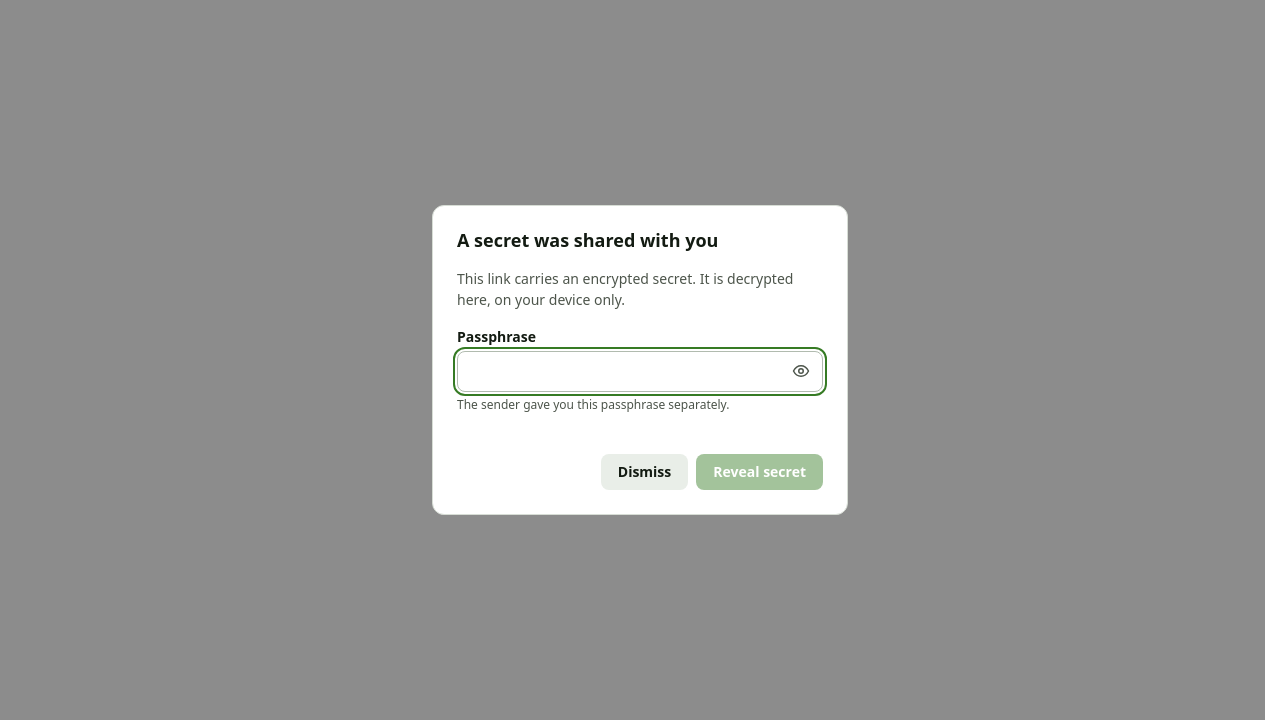
Scenario: ShareOpenDialog › requires the passphrase, rejects a wrong one, accepts the right one
The width and height of the screenshot is (1280, 720).
Step 1. Type "wrong" into the password field labelled "Passphrase" → (640,371), box [457, 351, 823, 392]
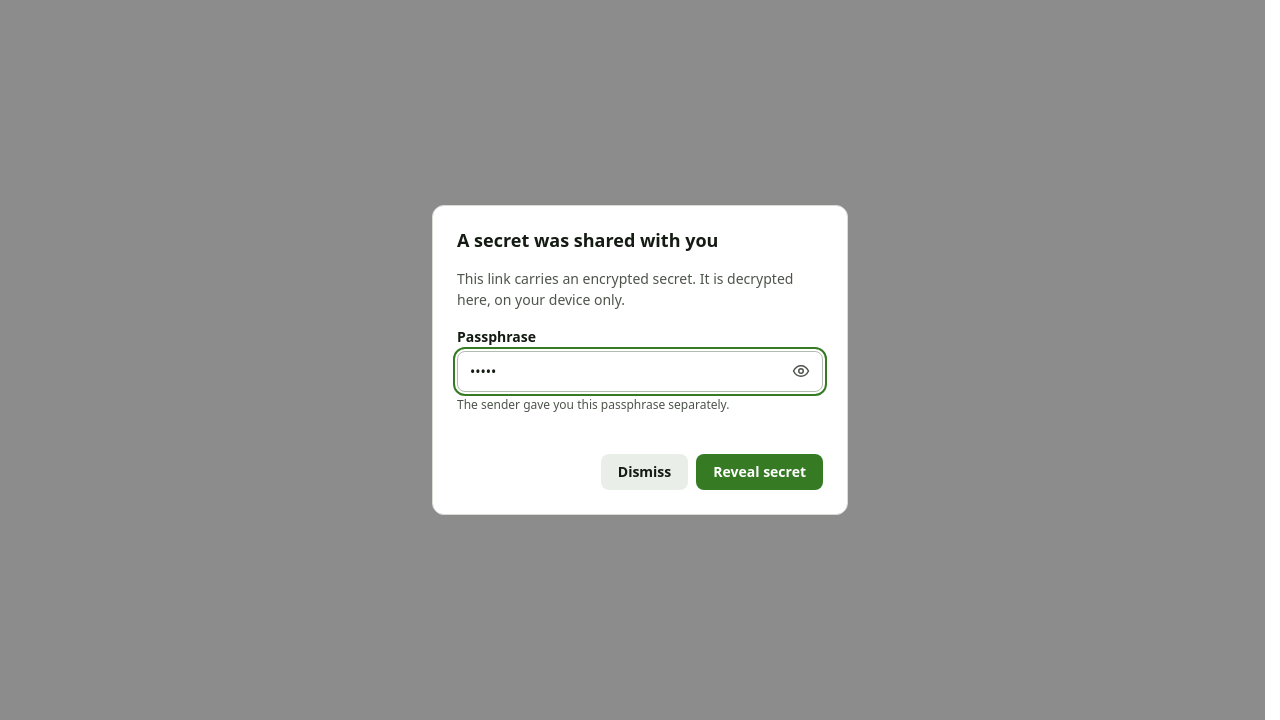
Step 2. Click the button "Reveal secret" → (760,472), box [696, 454, 823, 490]
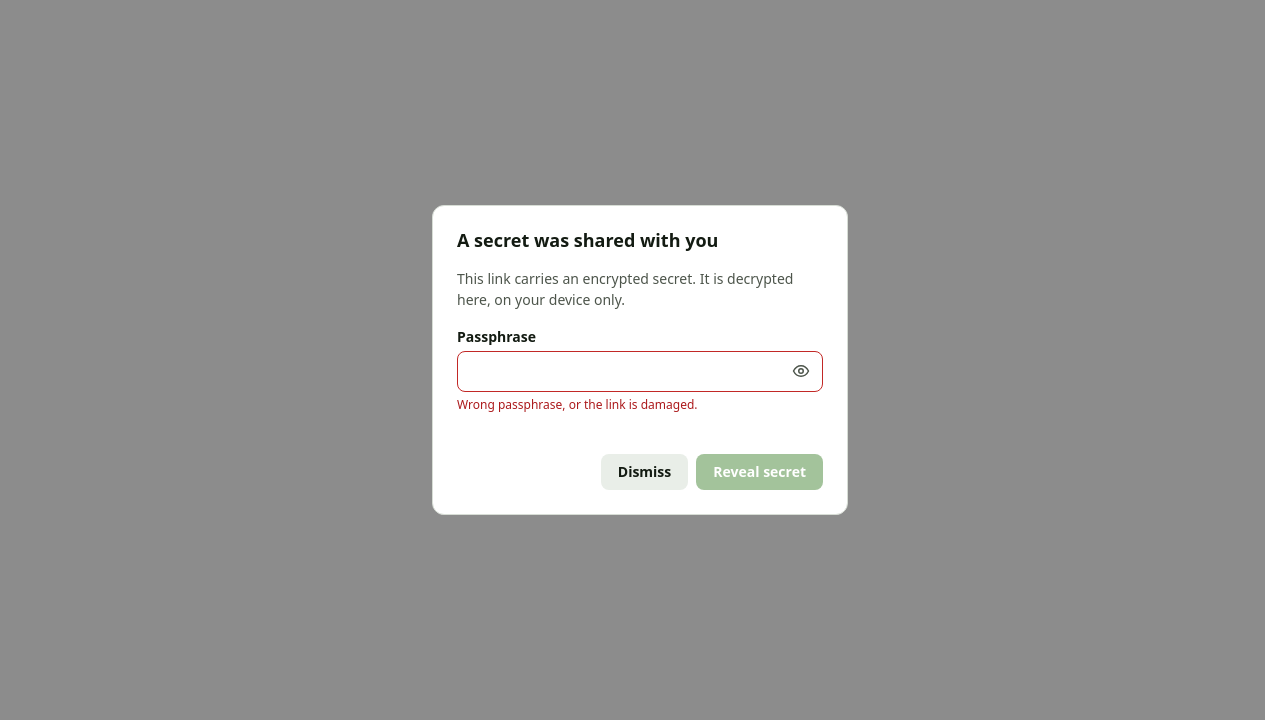
Check: the text "Wrong passphrase, or the link is damaged." is shown, box [457, 396, 698, 413]
Step 3. Type "sesame" into the password field labelled "Passphrase" → (640,371), box [457, 351, 823, 392]
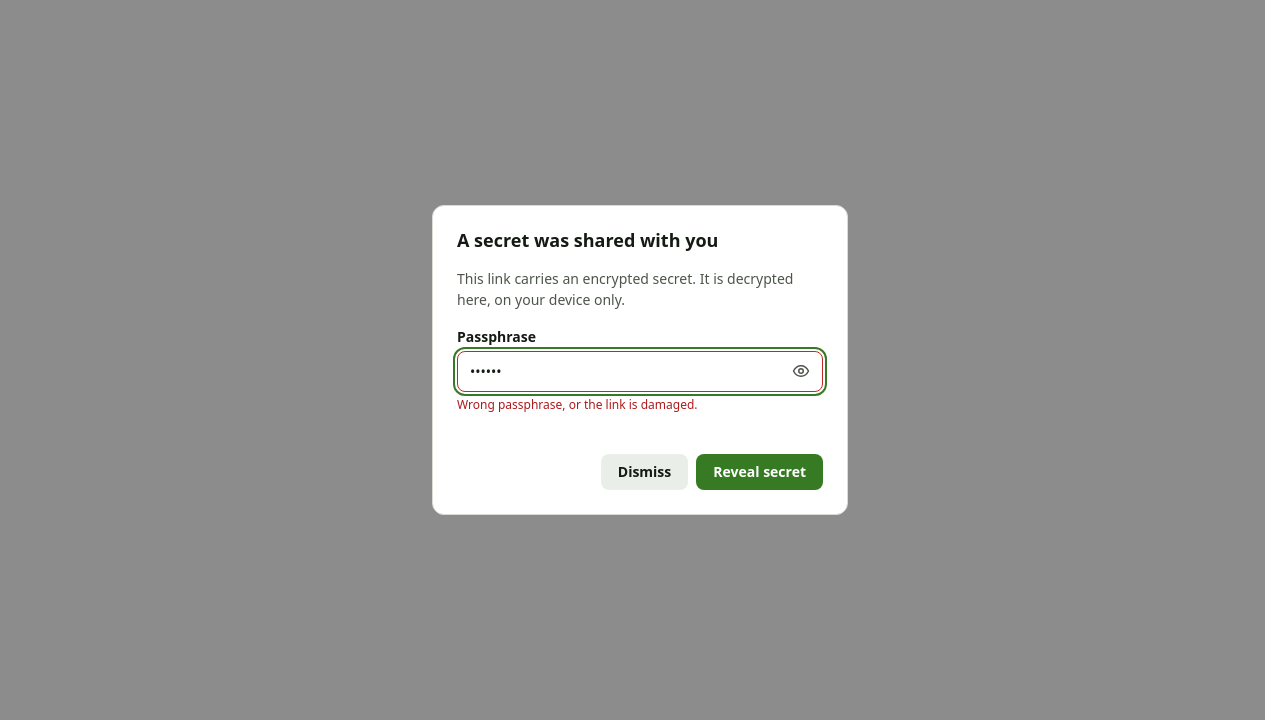
Step 4. Click the button "Reveal secret" → (760,472), box [696, 454, 823, 490]
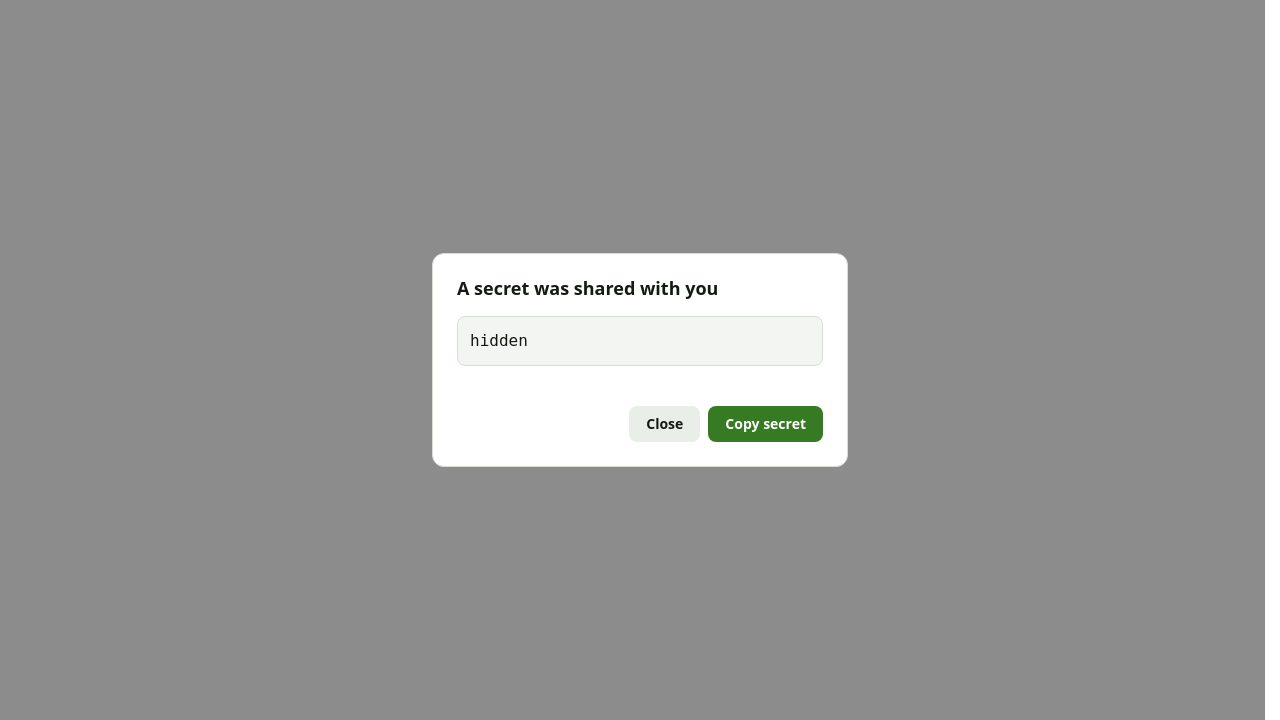
Check: the text "hidden" is shown, box [457, 316, 823, 366]
